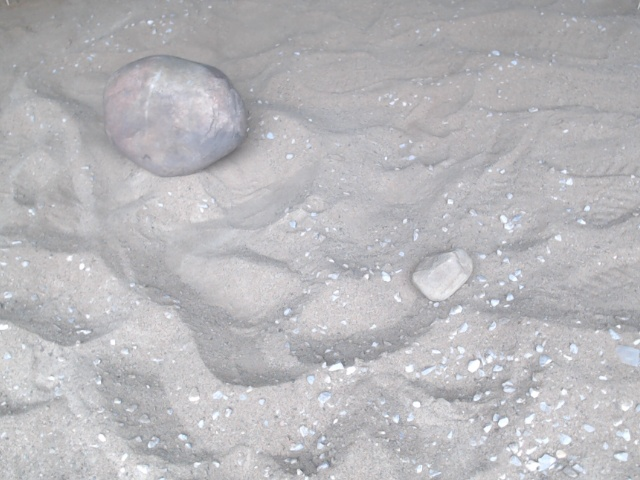rock: (97, 49, 254, 183), (405, 244, 478, 308)
